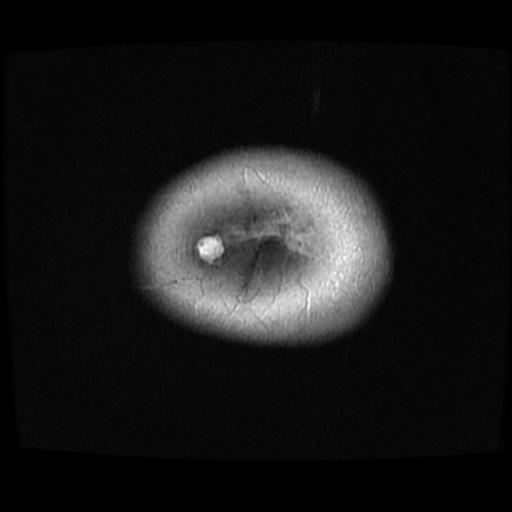meningioma: (196, 234, 222, 263)
